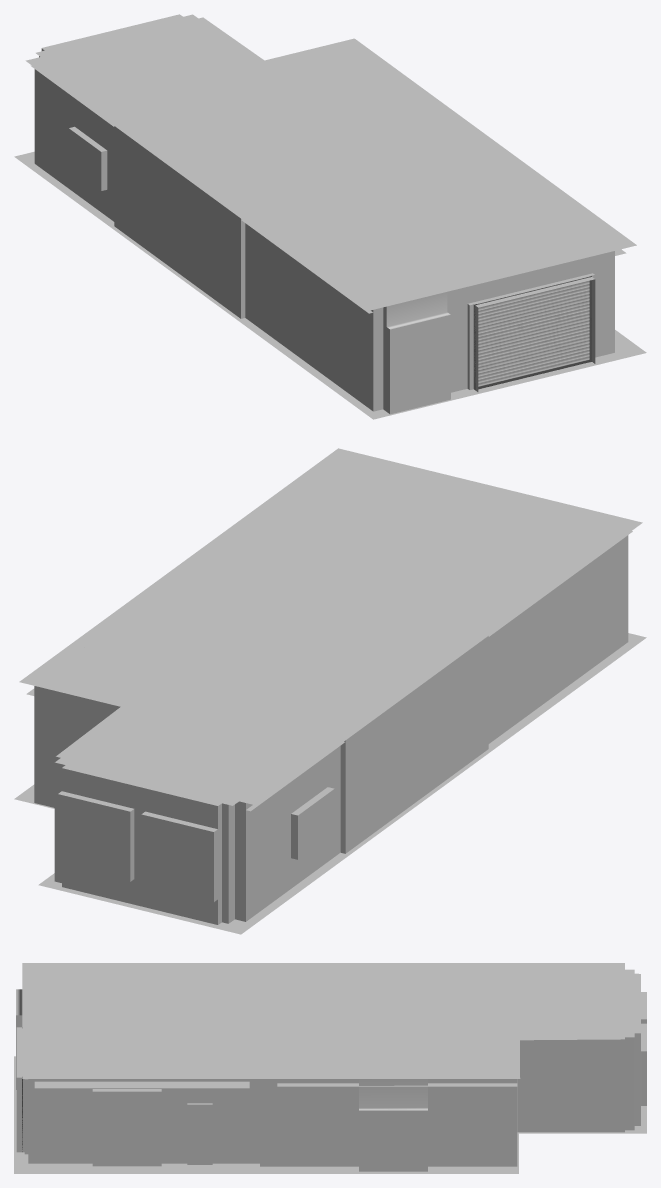
Rendered from CR_Garage_Building_Grp.fbx.
3 views of the same model, one above another, from view 1: azimuth 30°, elevation 25°; view 2: azimuth 150°, elevation 25°; view 3: azimuth 270°, elevation 25° (orthographic). The views are drawn at different scales.
Visible parts, largest first — view 1: ceiling1, BrickWall2, polySurface7, Floor; view 2: ceiling1, BrickWall2, Floor; view 3: ceiling1, BrickWall2, Floor.
Part boxes in pixels (x1,y1,x2,y2): ceiling1: (25, 14, 636, 310); BrickWall2: (30, 48, 626, 414); polySurface7: (474, 276, 591, 389); Floor: (14, 151, 646, 419); ceiling1: (19, 448, 642, 805); BrickWall2: (26, 531, 632, 924); Floor: (14, 633, 646, 934); ceiling1: (22, 963, 640, 1078); BrickWall2: (16, 989, 646, 1171); Floor: (14, 1056, 646, 1173).
Size of the model in its own units: 1134 by 415 by 2568.
